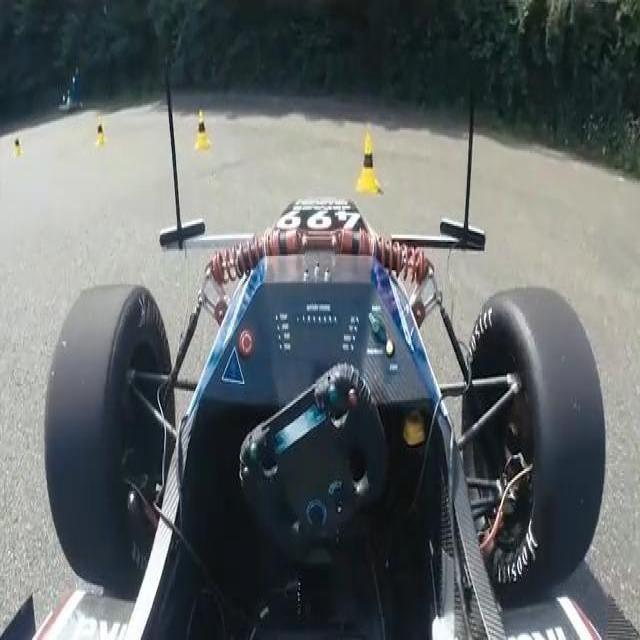yellow_cone: (358, 124, 378, 192), (195, 106, 209, 154), (94, 119, 106, 151), (13, 135, 22, 159)
